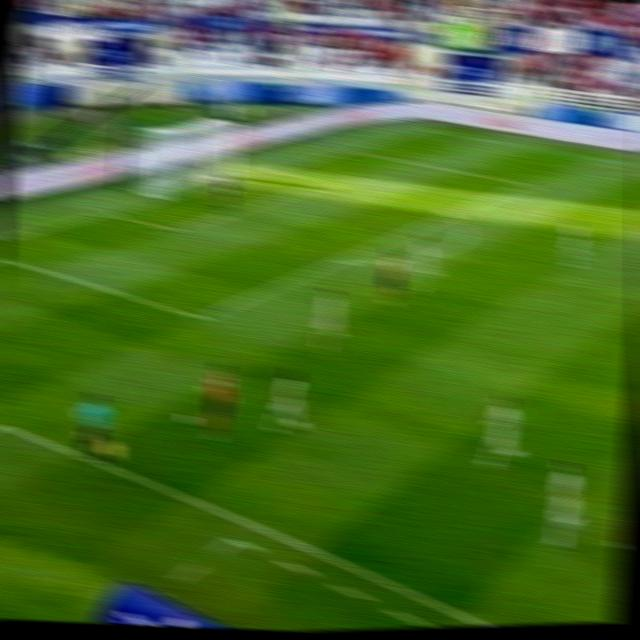bigarea_bottom_inner: (185, 305, 214, 327)
bigarea_top_inner: (512, 173, 538, 193)
bigarea_top_outter: (339, 139, 363, 156)
bottom_arc_area_intersection: (326, 248, 352, 271)
corner: (413, 120, 439, 136)
smallarea_bottom_inner: (162, 219, 188, 239)
smallarea_bottom_outter: (97, 200, 123, 221)
smallarea_top_inner: (315, 173, 343, 191)
smallarea_top_outter: (263, 160, 287, 178)
top_arc_area_intersection: (439, 203, 465, 223)
